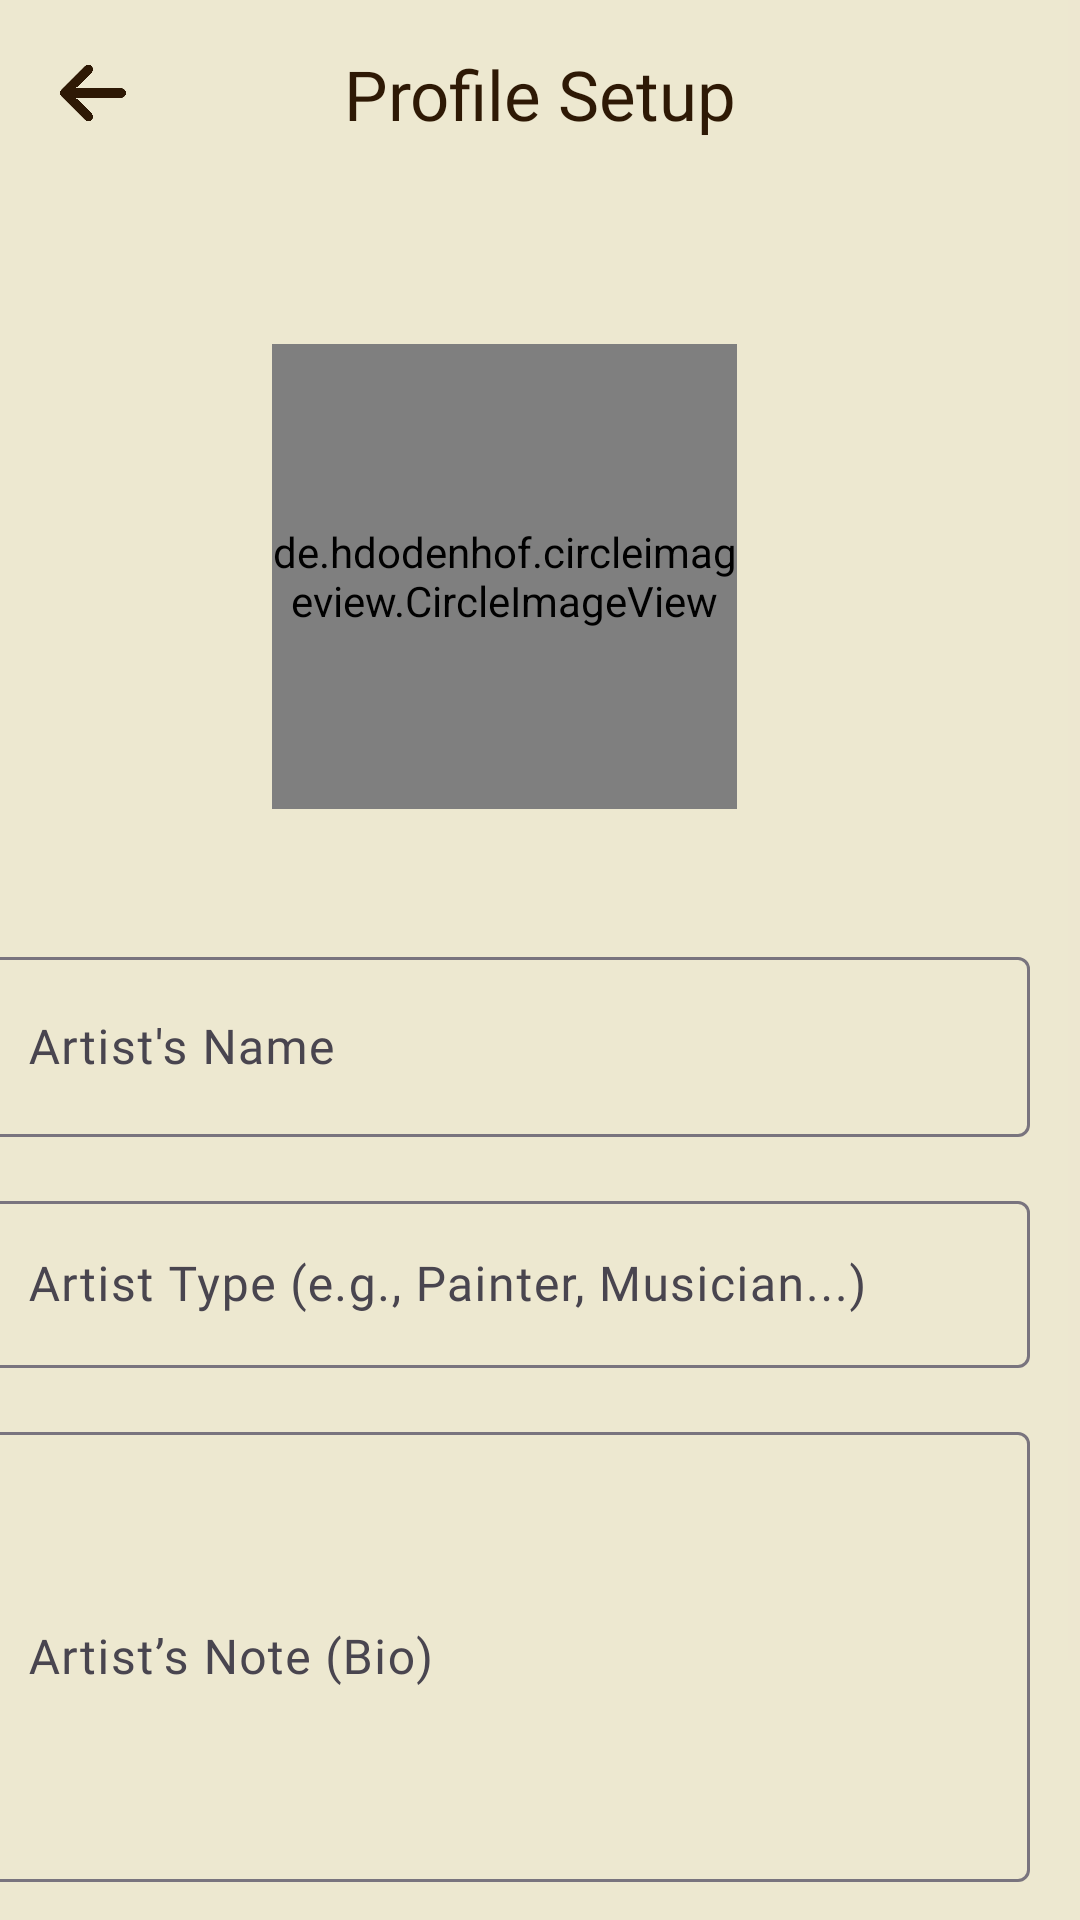

Screen size 1080x1920. Icon name, then its center in pixels as point (x, y):
Back: point (93, 93)
